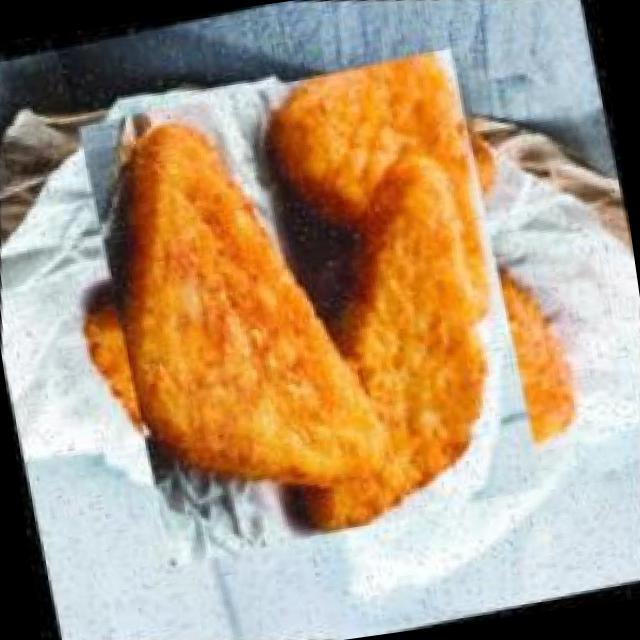triangle_hash_brown: (2, 1, 616, 614)
